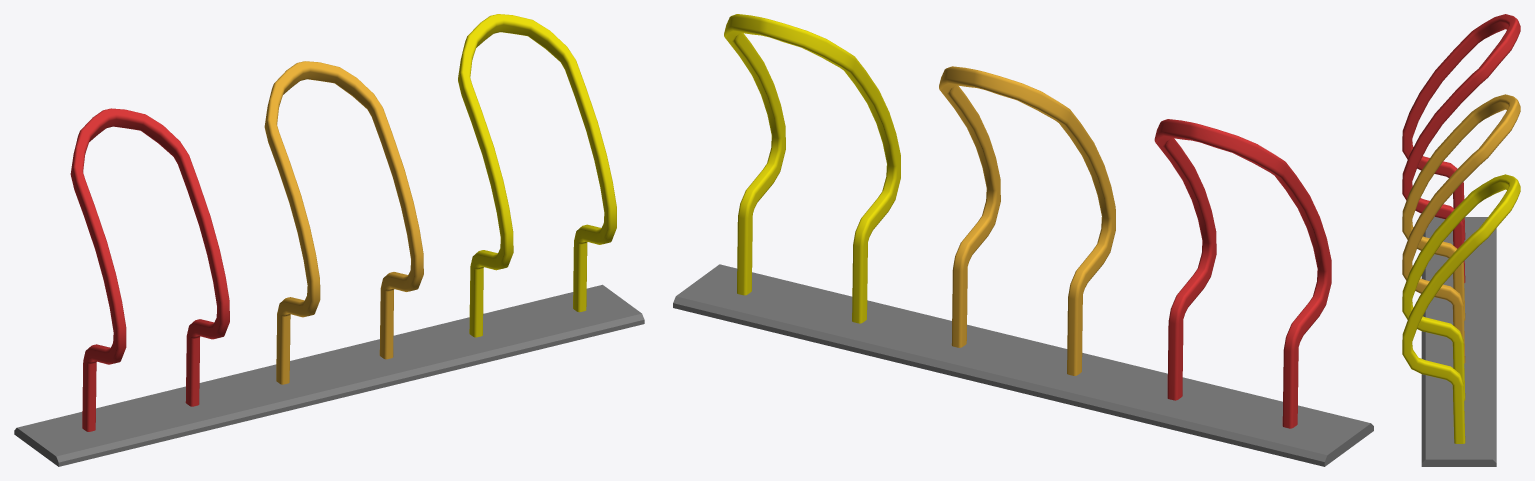
File: BicycleStand.fbx
The picture shows the model from 3 angles, left to right: view 1: azimuth 30°, elevation 25°; view 2: azimuth 150°, elevation 25°; view 3: azimuth 270°, elevation 25°; orthographic projection. The views are drawn at different scales.
Visible parts, largest first — view 1: Cyckelställ; view 2: Cyckelställ; view 3: Cyckelställ.
Part boxes in pixels (box(x1,y1,x2,y2)): Cyckelställ: box(14, 14, 644, 466); Cyckelställ: box(673, 14, 1373, 466); Cyckelställ: box(1402, 14, 1520, 466).
Size of the model in its own units: 45.98 by 21.86 by 9.5.
